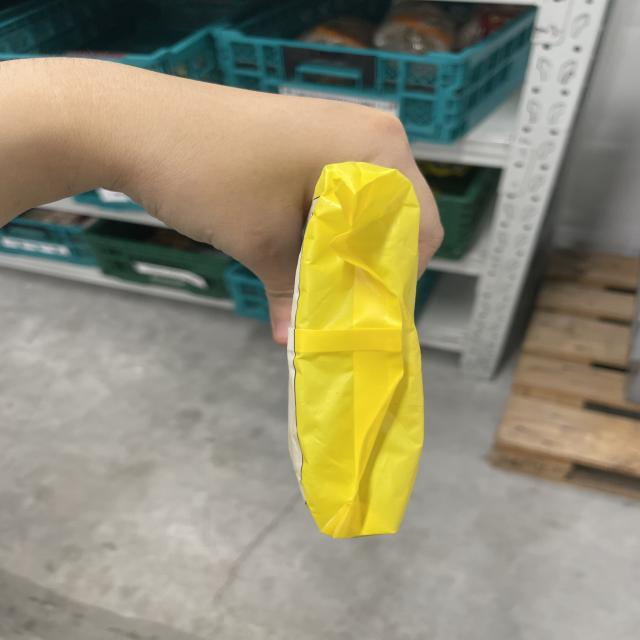object_name: (318, 164, 411, 529)
